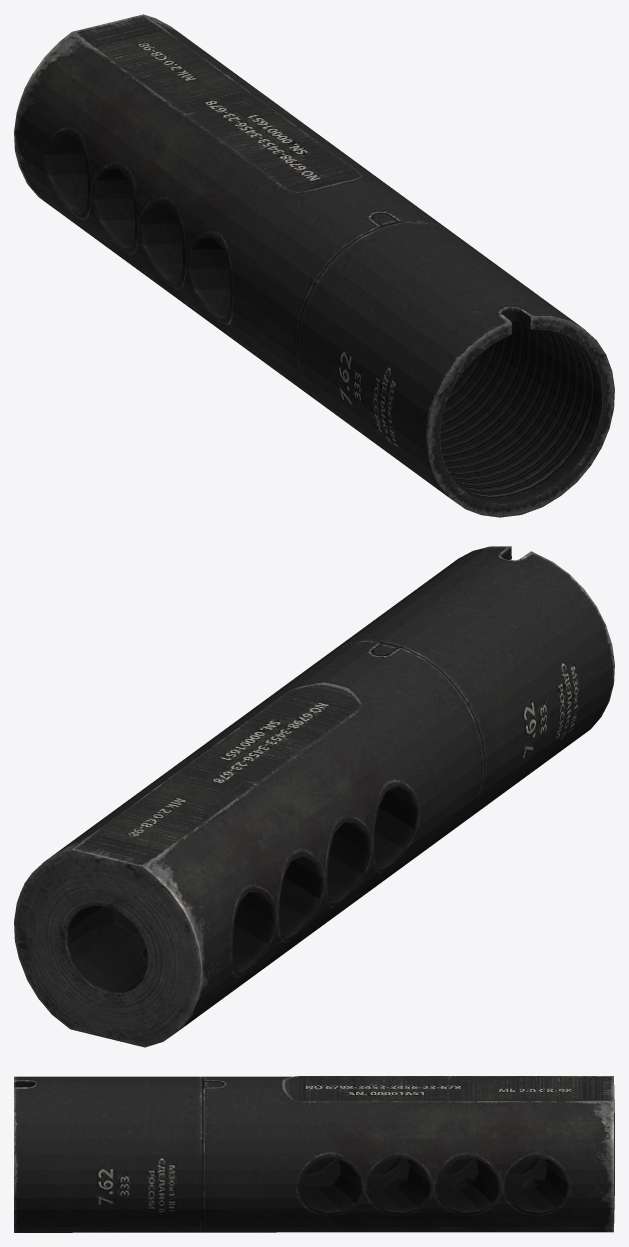
3 views of the same model, one above another, from view 1: azimuth 30°, elevation 25°; view 2: azimuth 150°, elevation 25°; view 3: azimuth 270°, elevation 25° (orthographic). The views are drawn at different scales.
Visible parts, largest first — view 1: TW_5c4ee3d62e2216152006f302_PZ_Import; view 2: TW_5c4ee3d62e2216152006f302_PZ_Import; view 3: TW_5c4ee3d62e2216152006f302_PZ_Import.
Part boxes in pixels (left/top/right/bottom): TW_5c4ee3d62e2216152006f302_PZ_Import: left=14, top=14, right=614, bottom=517; TW_5c4ee3d62e2216152006f302_PZ_Import: left=14, top=546, right=614, bottom=1047; TW_5c4ee3d62e2216152006f302_PZ_Import: left=14, top=1076, right=614, bottom=1232.
Bounding box in the file's own units: 0.0199 × 0.0763 × 0.0199.
Materials: 1 (1 with a texture image).
